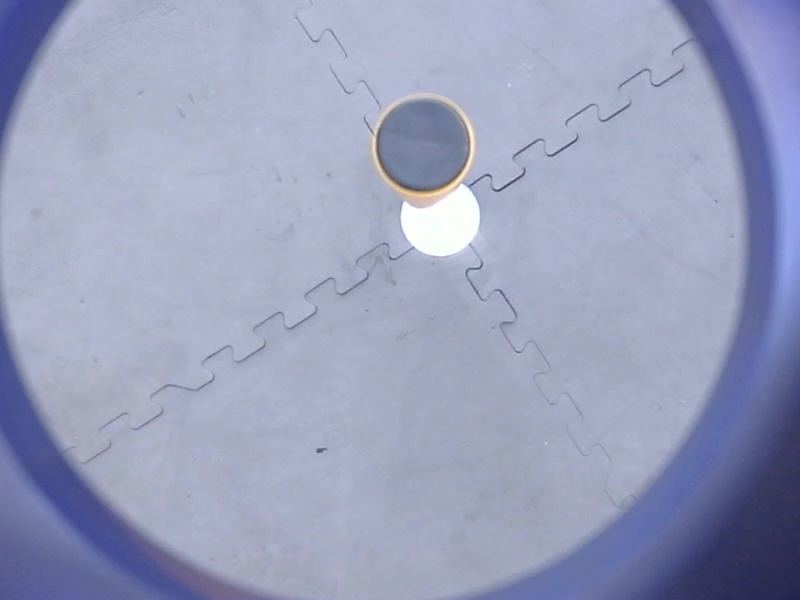tip: (368, 86, 481, 200)
